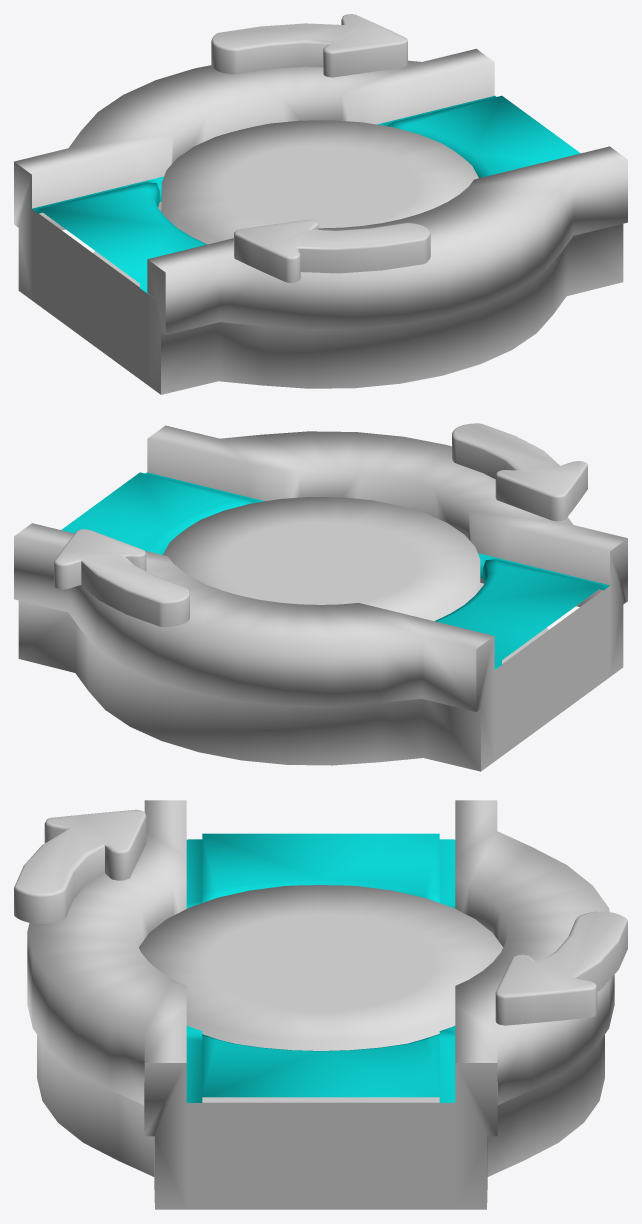
The model's file is RotatorOneQuadInternalVariant.gltf.
The picture shows the model from 3 angles, top to bottom: view 1: azimuth 30°, elevation 25°; view 2: azimuth 150°, elevation 25°; view 3: azimuth 270°, elevation 25°; orthographic projection. The views are drawn at different scales.
Visible parts, largest first — view 1: Rotator_90CW_Main_LOD0, Rotator_90CW_Arrows_LOD0; view 2: Rotator_90CW_Main_LOD0, Rotator_90CW_Arrows_LOD0; view 3: Rotator_90CW_Main_LOD0, Rotator_90CW_Arrows_LOD0.
Boxes of the visible parts, x1,y1,x2,y2 form: Rotator_90CW_Main_LOD0: (14, 14, 627, 394); Rotator_90CW_Arrows_LOD0: (158, 120, 478, 244); Rotator_90CW_Main_LOD0: (14, 423, 627, 771); Rotator_90CW_Arrows_LOD0: (163, 497, 483, 621); Rotator_90CW_Main_LOD0: (14, 800, 627, 1209); Rotator_90CW_Arrows_LOD0: (139, 885, 502, 1050).
Size of the model in its own units: 1 by 0.3117 by 0.9876.
